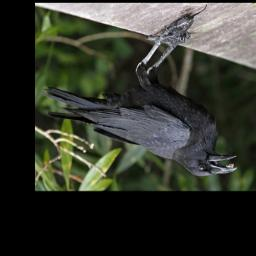Crow: (43, 25, 238, 177)
